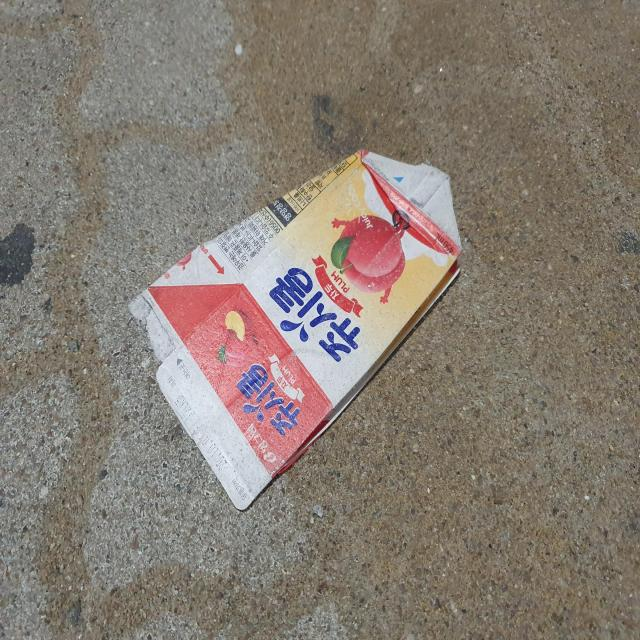paperpack: (129, 150, 462, 510)
